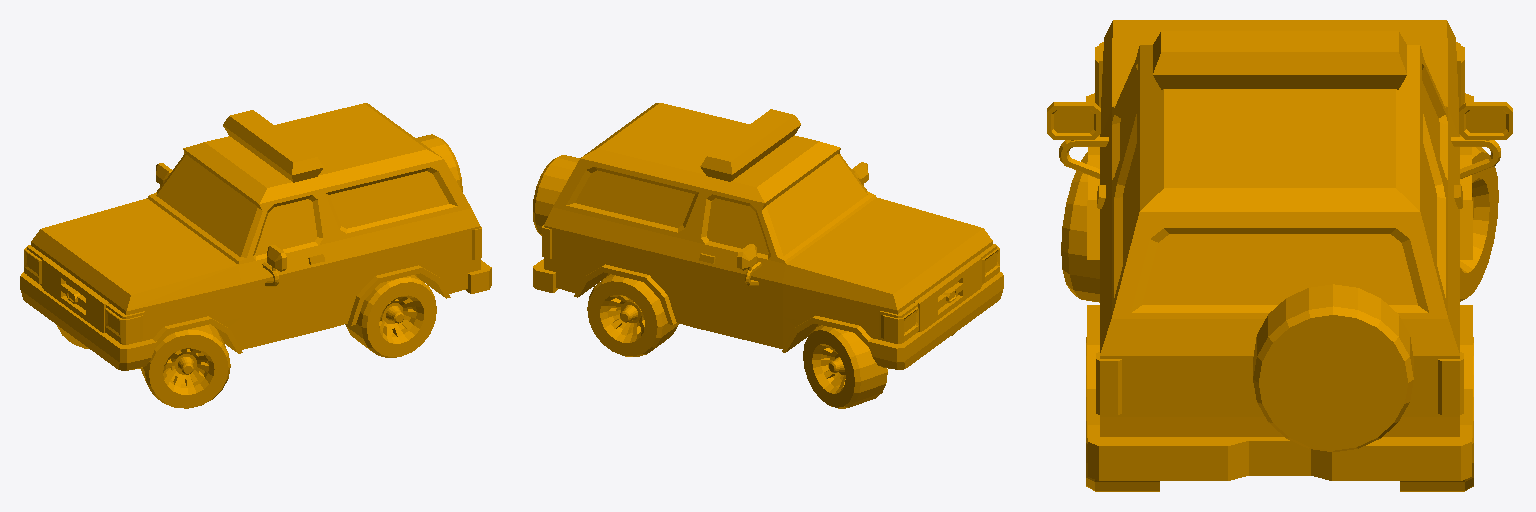
robot.urdf — mesh_object:
<robot name="mesh_object">
            <link name="base">
                <visual>
                    <geometry>
                        <mesh filename="ambulance_1.obj" scale="1 1 1" />
                    </geometry>
                </visual>
                <collision>
                    <geometry>
                        <mesh filename="ambulance_1.obj" scale="1 1 1" />
                    </geometry>
                </collision>
                <inertial>
                    <origin xyz="0 0 0.024792506500000002" rpy="0 0 0" />
                    <mass value="0.5" />
                    <inertia ixx="0.01" iyy="0.01" izz="0.01" ixy="0" ixz="0" iyz="0" />
                </inertial>
            </link>
            </robot>

--- Render facts (derived) ---
3 views of the same robot in one strip: view 1: azimuth 30°, elevation 25°; view 2: azimuth 150°, elevation 25°; view 3: azimuth 270°, elevation 25° (orthographic).
Model mesh_object with 1 links and 0 joints (none), rooted at base, posed every joint at zero.
Visible links, largest first — view 1: base; view 2: base; view 3: base.
Boxes of the visible links, x1,y1,x2,y2 form: base: [20, 103, 491, 408]; base: [533, 103, 1003, 408]; base: [1047, 20, 1512, 491].
Size in the robot's own frame: 0.0989 by 0.056 by 0.0496 metres.
Meshes: 1 distinct files referenced, 1 mesh visuals loaded (1 OBJ).
